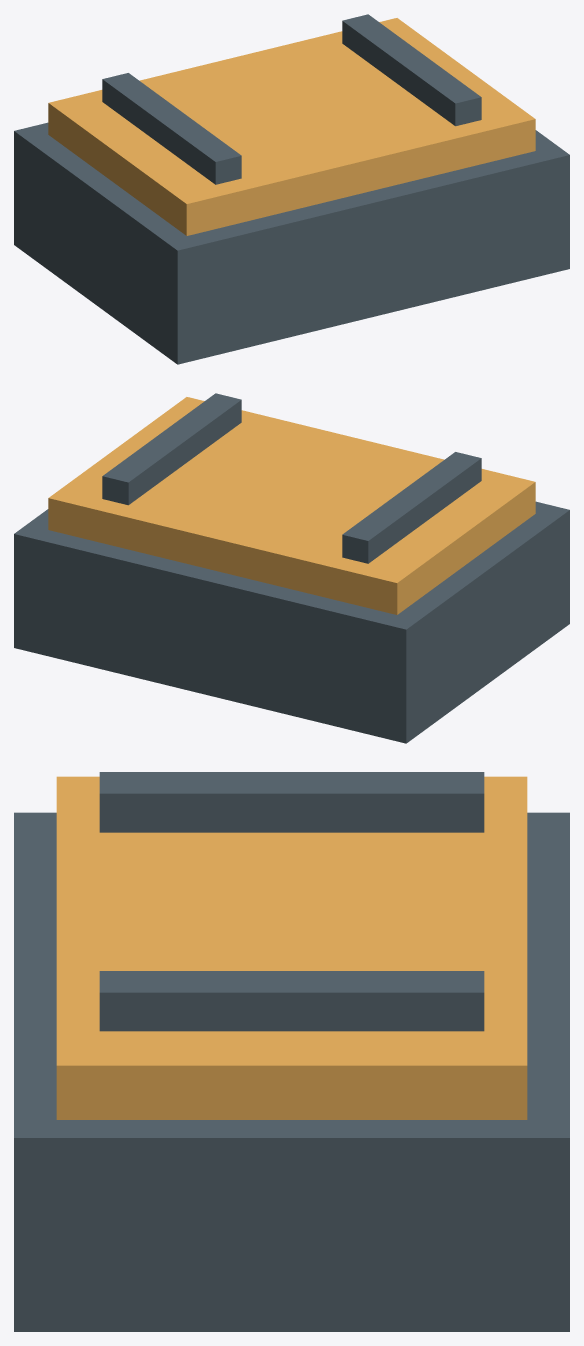
The model's file is american-football-stadium-kit-kicking-block-cab1eb0b__22375.glb.
The picture shows the model from 3 angles, top to bottom: view 1: azimuth 30°, elevation 25°; view 2: azimuth 150°, elevation 25°; view 3: azimuth 270°, elevation 25°; orthographic projection. The views are drawn at different scales.
Parts seen in each view (by area): view 1: kicking-block; view 2: kicking-block; view 3: kicking-block.
Boxes of the visible parts, x1,y1,x2,y2 form: kicking-block: [14, 14, 569, 364]; kicking-block: [14, 393, 569, 743]; kicking-block: [14, 772, 569, 1331].
Bounding box in the file's own units: 0.18 × 0.074 × 0.13.
